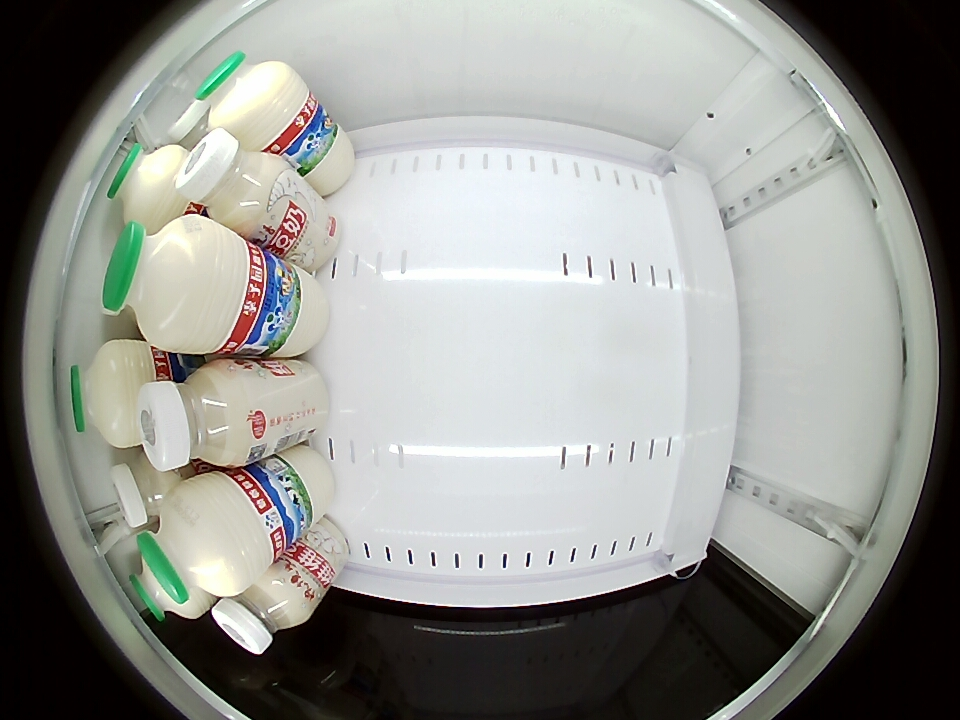liziyuan: (102, 214, 253, 355), (136, 472, 274, 606), (196, 51, 309, 151), (69, 338, 157, 449), (106, 140, 195, 227), (131, 566, 202, 622)
weiweidounai: (136, 358, 258, 472), (176, 127, 286, 237), (211, 568, 312, 655), (110, 455, 182, 528), (169, 93, 213, 141)
